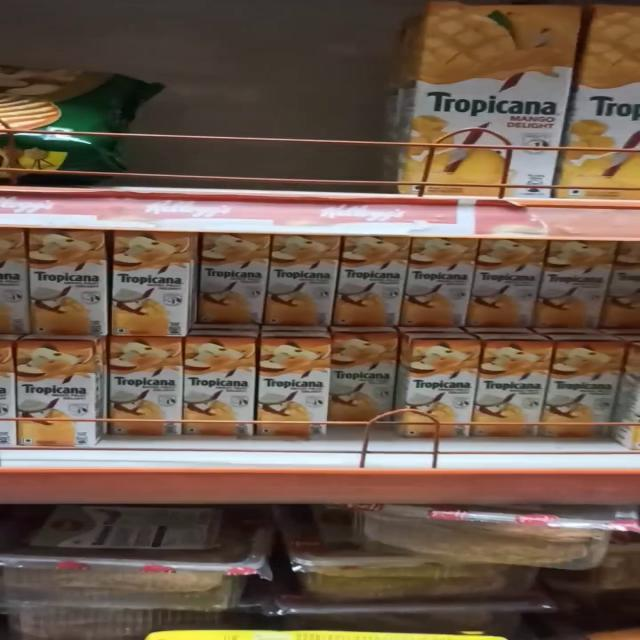Tropicana: (379, 0, 569, 194), (114, 226, 198, 334), (388, 337, 480, 430), (186, 225, 266, 330), (263, 235, 341, 337), (324, 233, 406, 328), (20, 230, 101, 325), (178, 336, 258, 428), (17, 346, 94, 439), (112, 338, 188, 432), (462, 238, 544, 323), (261, 336, 327, 432), (328, 342, 398, 423), (551, 344, 613, 435), (486, 343, 550, 425), (544, 243, 604, 329), (414, 243, 466, 330)
